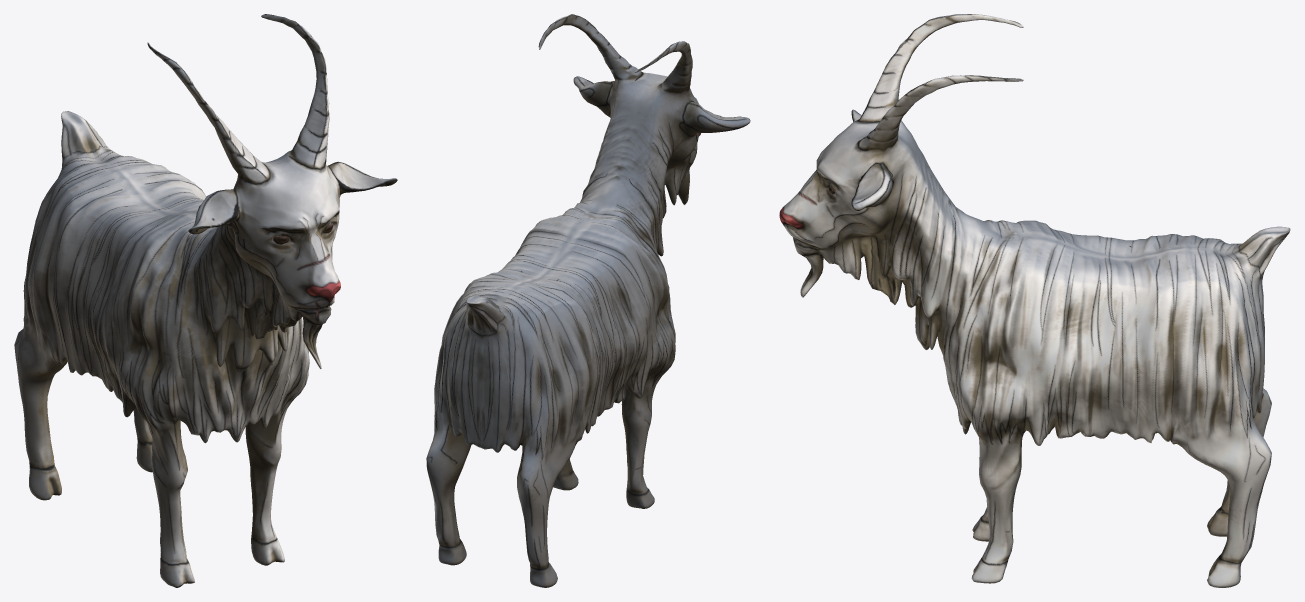
The picture shows the model from 3 angles, left to right: view 1: azimuth 30°, elevation 25°; view 2: azimuth 150°, elevation 25°; view 3: azimuth 270°, elevation 25°; orthographic projection. The views are drawn at different scales.
Parts seen in each view (by area): view 1: grumpyGoat11; view 2: grumpyGoat11; view 3: grumpyGoat11.
Part boxes in pixels (x1=…): grumpyGoat11: x1=14, y1=14, x2=397, y2=587; grumpyGoat11: x1=426, y1=14, x2=750, y2=587; grumpyGoat11: x1=779, y1=14, x2=1290, y2=587.
Bounding box in the file's own units: 4.67 × 11.51 × 10.38.
Materials: 1 (1 with a texture image).
